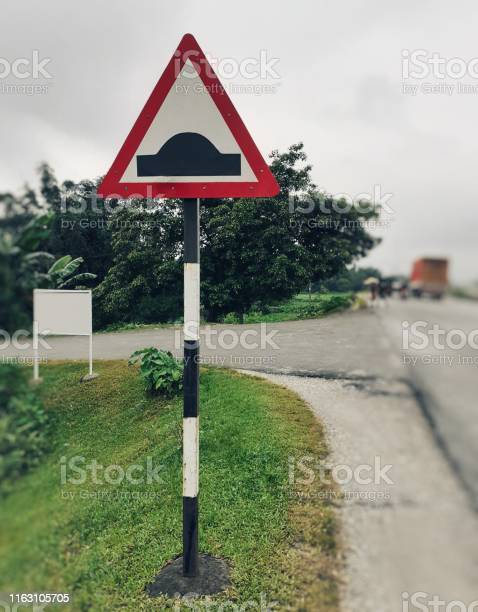speed-breaker: (98, 33, 278, 198)
